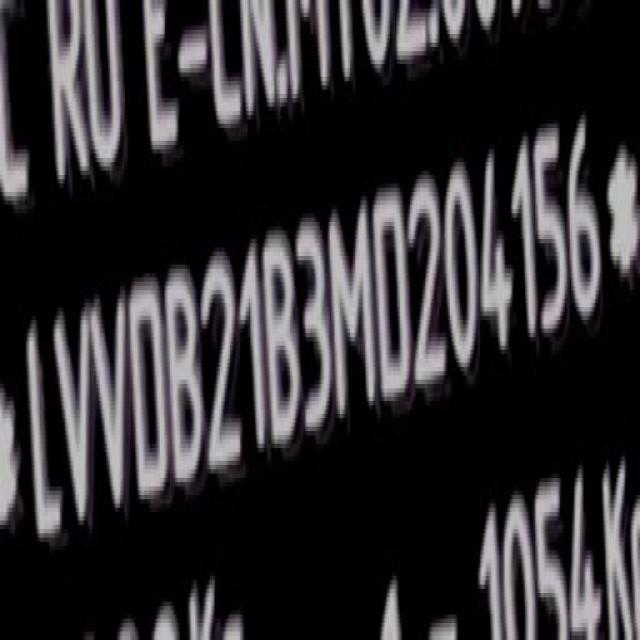0: (445, 154, 477, 368)
1: (239, 237, 267, 458), (511, 130, 537, 351)
2: (408, 174, 448, 399), (203, 261, 243, 483)
3: (294, 212, 332, 442)
4: (478, 144, 512, 364)
5: (536, 116, 572, 342)
6: (566, 109, 602, 322)
B: (264, 227, 302, 458), (170, 265, 207, 492)
D: (128, 276, 168, 502), (376, 185, 414, 412)
L: (27, 318, 65, 548)
M: (329, 199, 378, 431)
V: (93, 295, 134, 523), (54, 310, 92, 542)
